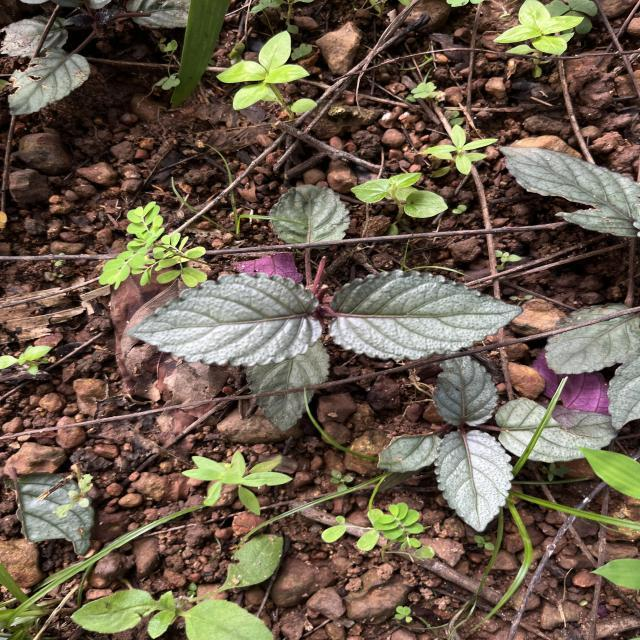Hemigraphis colorata: (326, 266, 528, 364), (123, 270, 324, 368), (495, 137, 640, 239), (430, 428, 517, 536), (496, 395, 624, 465), (241, 341, 333, 436), (541, 298, 640, 377), (268, 180, 352, 250), (428, 352, 502, 429)
